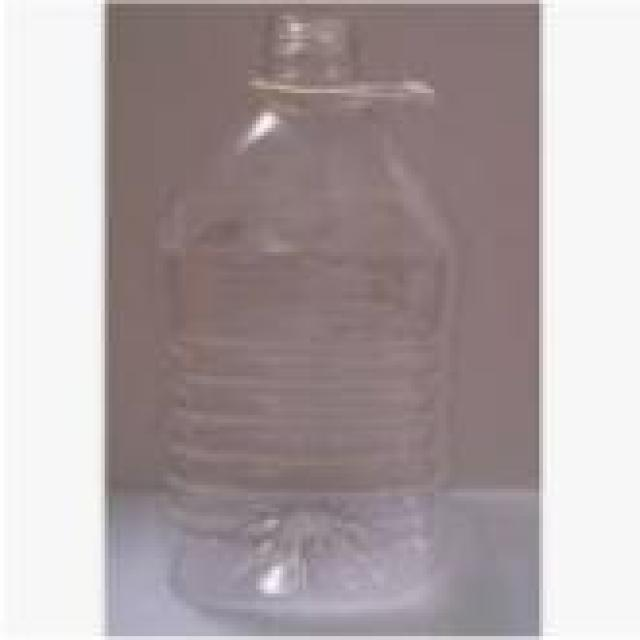bottle: (150, 4, 468, 620)
